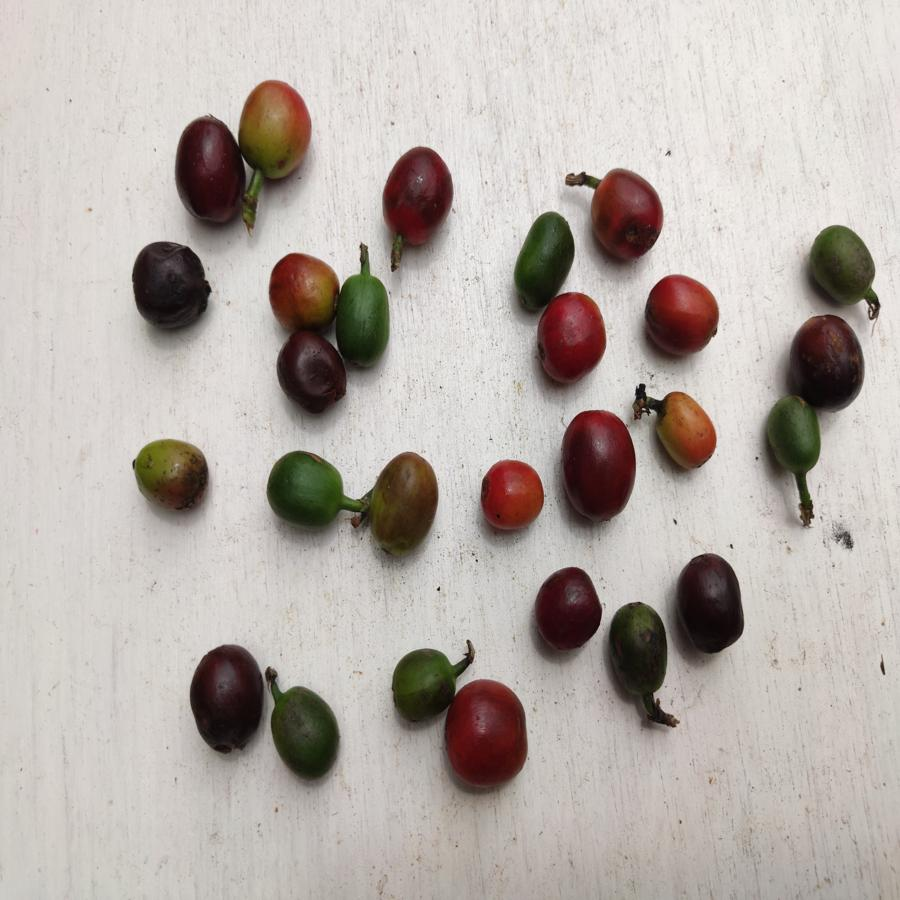Inmaduro: (268, 682, 340, 780), (606, 598, 671, 700), (803, 226, 880, 308), (265, 451, 347, 528), (382, 643, 454, 722), (513, 210, 576, 295), (338, 273, 393, 368), (762, 399, 825, 480)
Maduro: (445, 677, 532, 792), (579, 167, 667, 258), (642, 269, 723, 355), (537, 292, 610, 386)
Pinton: (366, 449, 442, 560), (239, 77, 314, 180), (129, 434, 210, 514), (653, 386, 722, 474), (474, 456, 547, 537), (265, 249, 339, 325)
Sobremaduro: (554, 406, 643, 524), (185, 641, 262, 758), (783, 312, 870, 407), (676, 549, 753, 655), (379, 141, 454, 245), (173, 114, 243, 225), (128, 240, 211, 332), (529, 560, 602, 655), (270, 330, 347, 414)
